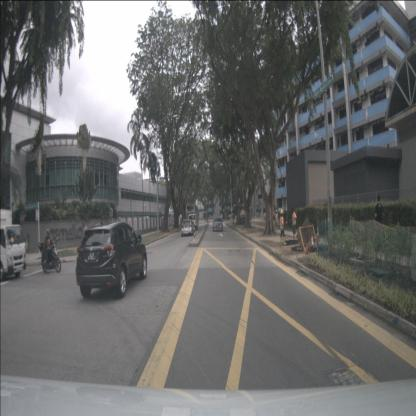human-pedestrian-adult: (374, 194, 384, 253), (83, 222, 88, 245)
movable_object-trafficcone: (316, 225, 320, 242)
vehicle-bus-rigid: (186, 204, 198, 228)
vehicle-car: (76, 222, 147, 298), (181, 219, 194, 236), (188, 214, 198, 230), (213, 217, 223, 231)
vehicle-motorcycle: (39, 230, 61, 272)
vehicle-truck: (1, 209, 26, 280)
